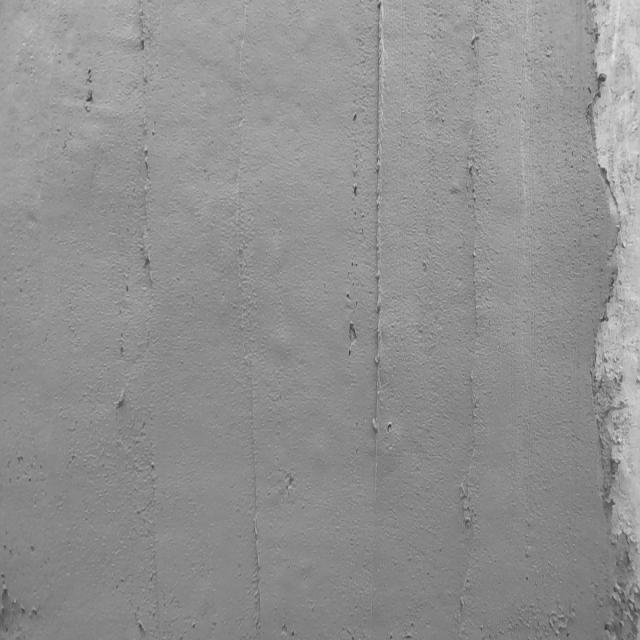trowels marks: (371, 2, 388, 469), (140, 3, 150, 296), (250, 367, 259, 640), (471, 161, 481, 340)
